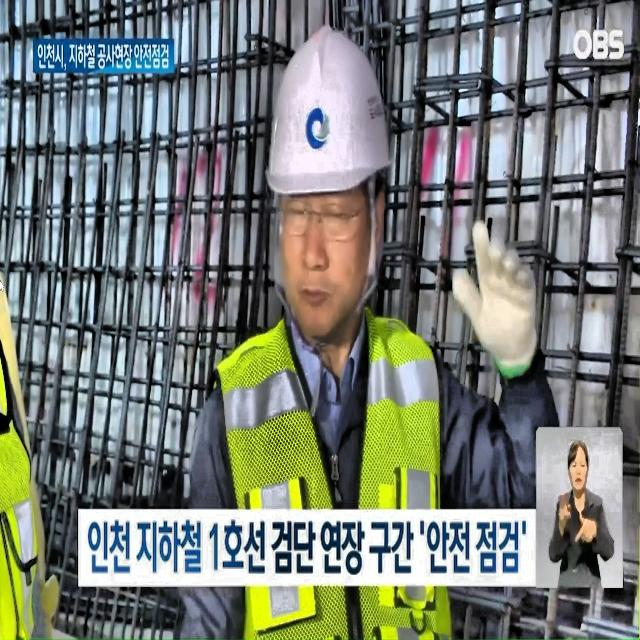safety_helmet: (263, 22, 392, 199)
safety_jacket: (206, 333, 467, 640)
